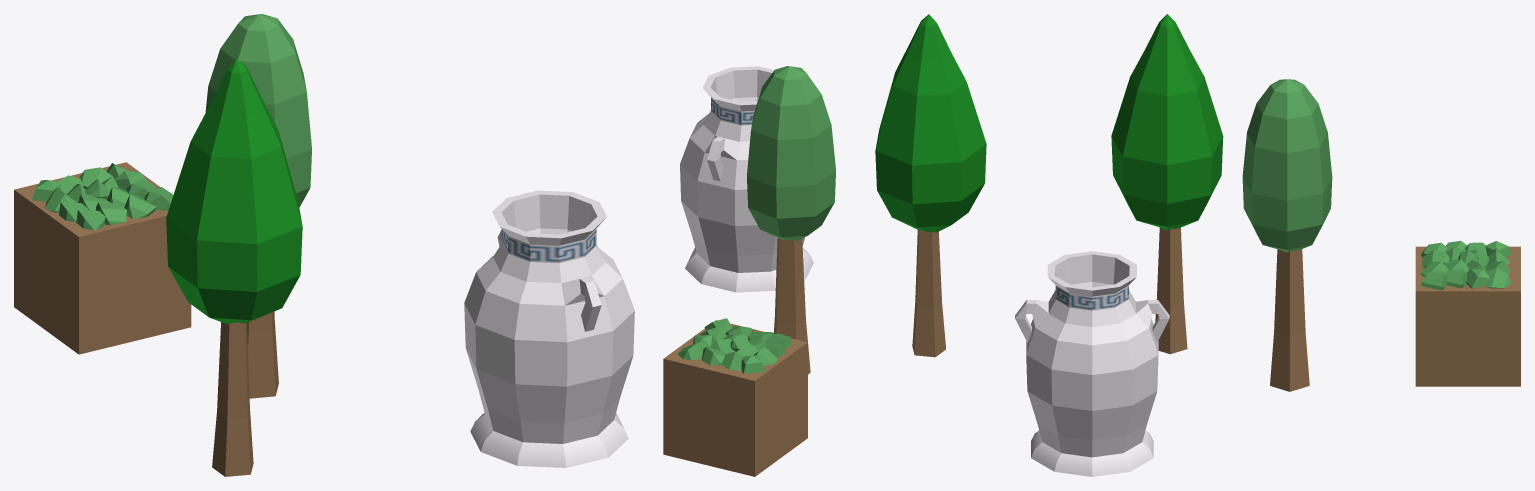
Rendered from scenery.fbx.
3 renders of one model, left to right at view 1: azimuth 30°, elevation 25°; view 2: azimuth 150°, elevation 25°; view 3: azimuth 270°, elevation 25°, orthographic. The views are drawn at different scales.
Visible parts, largest first — view 1: Pot, tall_tree1, crate, tall_tree; view 2: tall_tree1, crate, tall_tree, Pot; view 3: Pot, tall_tree1, tall_tree, crate.
Part boxes in pixels (bbox=[...]): Pot: bbox=[464, 190, 634, 467]; tall_tree1: bbox=[166, 59, 302, 476]; crate: bbox=[14, 162, 191, 354]; tall_tree: bbox=[205, 14, 311, 398]; tall_tree1: bbox=[875, 14, 986, 357]; crate: bbox=[663, 318, 807, 476]; tall_tree: bbox=[747, 66, 835, 374]; Pot: bbox=[680, 66, 813, 292]; Pot: bbox=[1015, 251, 1169, 476]; tall_tree1: bbox=[1111, 14, 1223, 354]; tall_tree: bbox=[1242, 79, 1332, 391]; crate: bbox=[1415, 241, 1520, 386].
Bounding box in the file's own units: 8.25 × 8.18 × 11.26.
